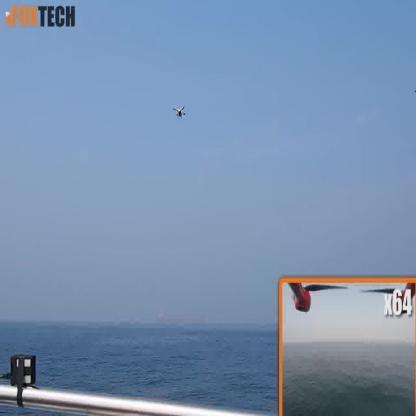drone: (171, 106, 187, 119)
